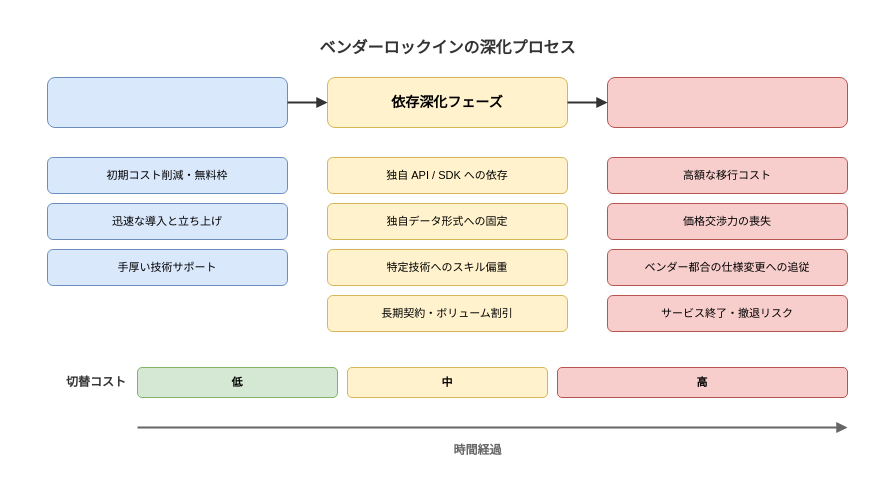
Some shapes in this 894 by 494 pixel diagram are drawn without their labels. The shapes that lost their labels are listed below. From the top down, each one's centre as x and y in pixels, then its label:
pixel 167 102: 導入フェーズ
pixel 727 102: ロックイン状態
